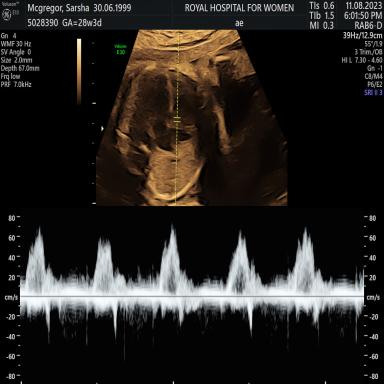Ultrasound-Waves: (27, 216, 363, 384)
